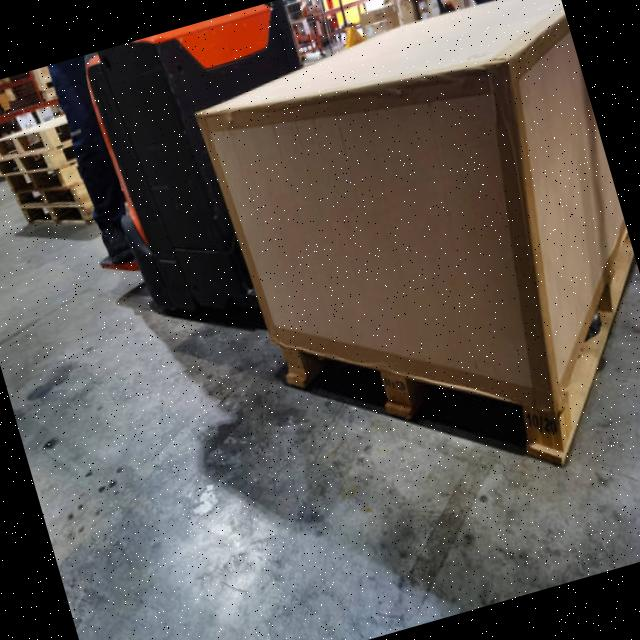Wooden-Pallets: (265, 330, 571, 476), (0, 125, 60, 157)
